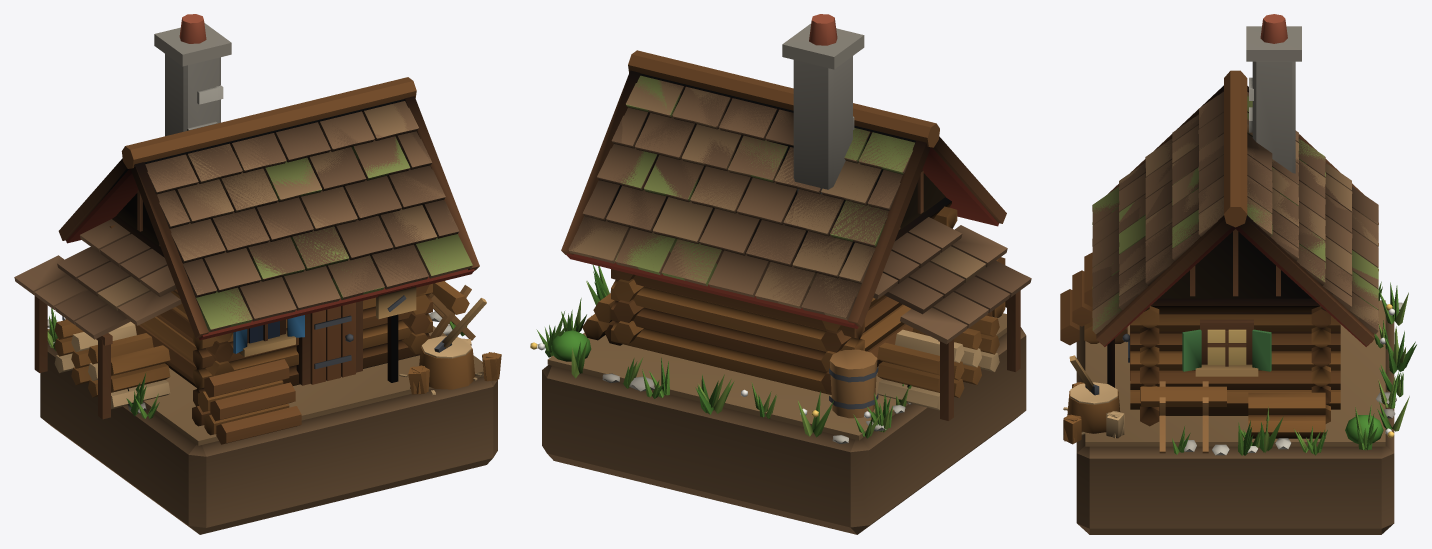
File: woodcutter.glb
3 views of the same model, side by side, from view 1: azimuth 30°, elevation 25°; view 2: azimuth 150°, elevation 25°; view 3: azimuth 270°, elevation 25° (orthographic). The views are drawn at different scales.
Parts seen in each view (by area): view 1: woodcutter_l1, woodcutter_l2, woodcutter_l3; view 2: woodcutter_l1, woodcutter_l2, woodcutter_l3; view 3: woodcutter_l1, woodcutter_l2, woodcutter_l3.
Boxes of the visible parts, x1,y1,x2,y2 form: woodcutter_l1: (40,14,501,534); woodcutter_l2: (14,85,497,419); woodcutter_l3: (62,88,499,393); woodcutter_l1: (542,14,1026,534); woodcutter_l2: (537,81,1031,443); woodcutter_l3: (530,78,914,437); woodcutter_l1: (1060,14,1394,534); woodcutter_l2: (1063,82,1403,452); woodcutter_l3: (1064,79,1416,455).
Bounding box in the file's own units: 1.01 × 1.08 × 0.8329.
